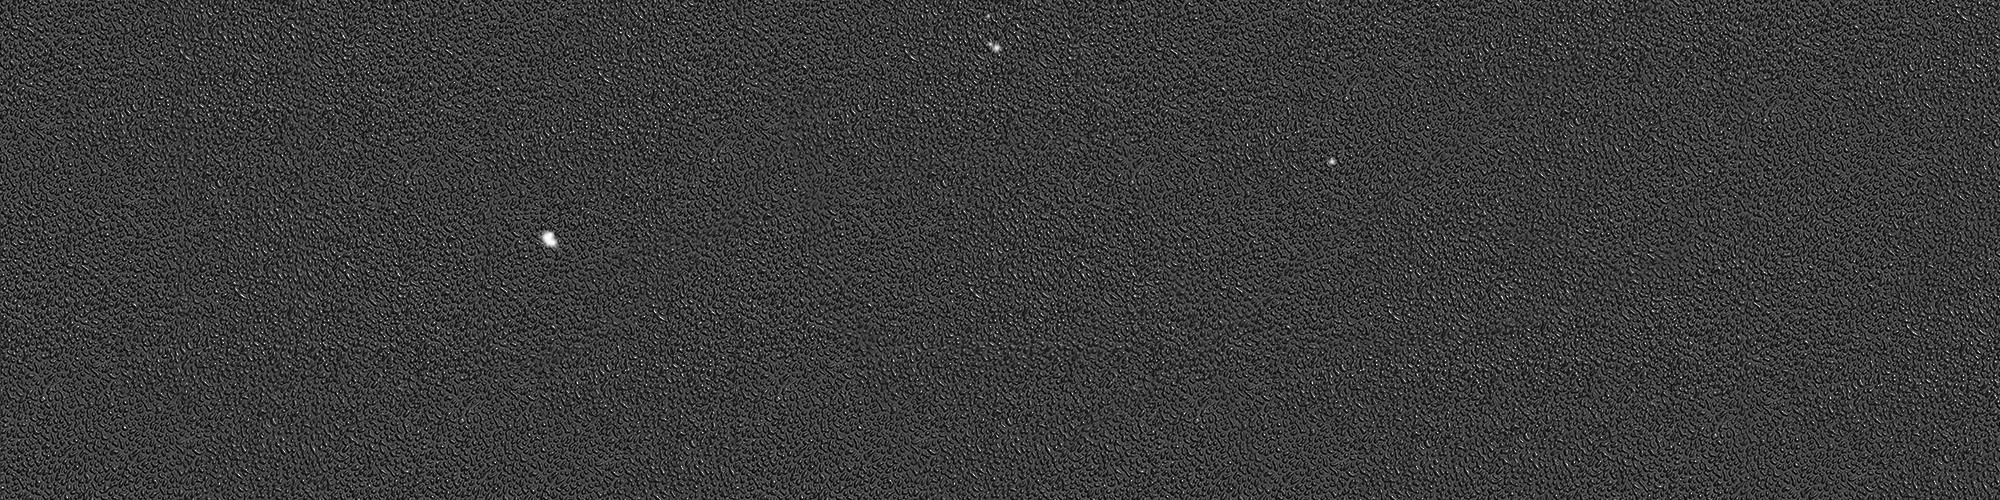Particles: (538, 226, 561, 250), (985, 36, 1003, 57), (1325, 153, 1341, 168)
